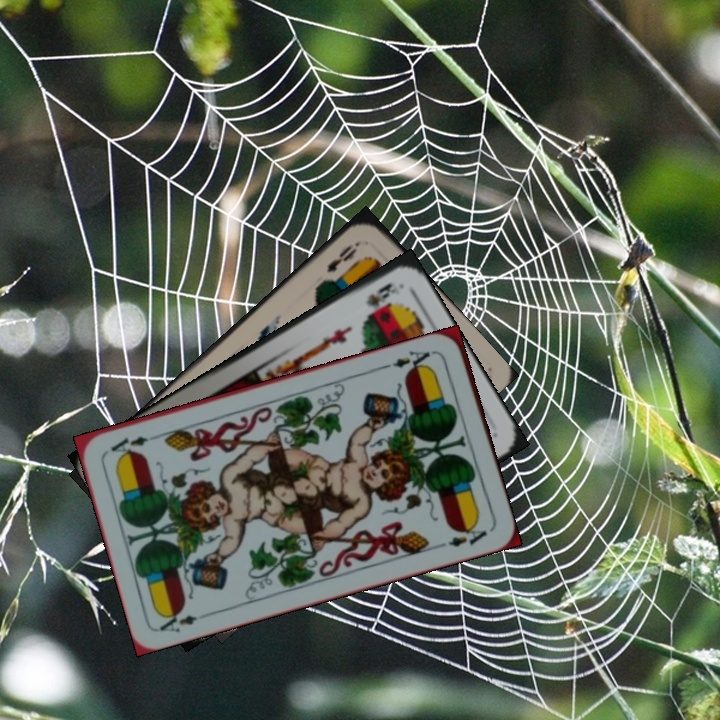EA: (381, 346, 439, 376), (155, 606, 213, 636)
EO: (322, 237, 363, 276)
SK: (361, 278, 402, 311)
